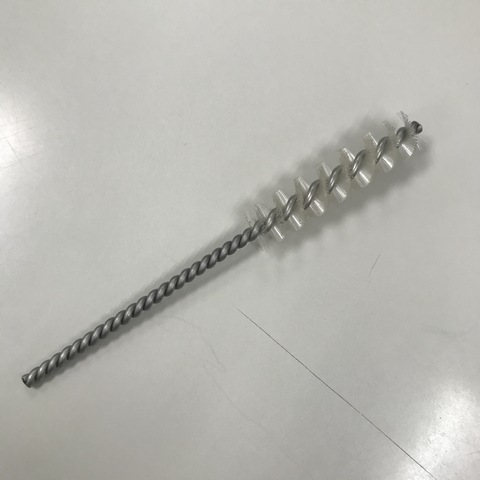Twist Brush-B: (13, 109, 437, 389)
